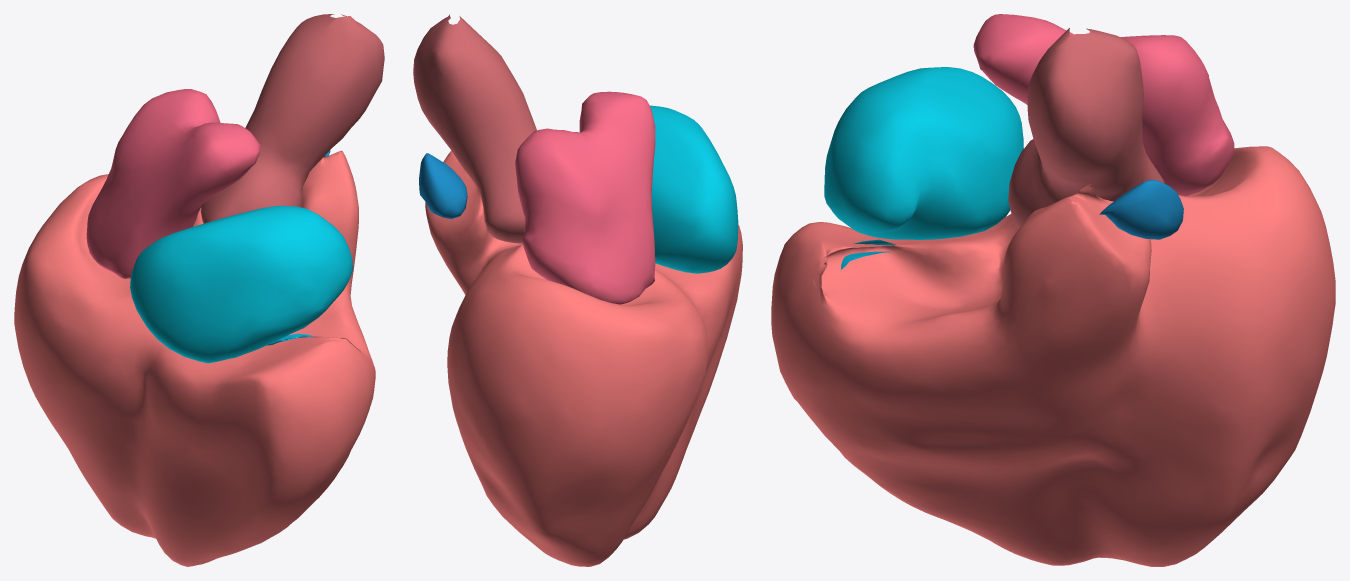
The model's file is frame_52.glb.
The picture shows the model from 3 angles, left to right: view 1: azimuth 30°, elevation 25°; view 2: azimuth 150°, elevation 25°; view 3: azimuth 270°, elevation 25°; orthographic projection. The views are drawn at different scales.
Visible parts, largest first — view 1: Renderer Node; view 2: Renderer Node; view 3: Renderer Node.
Boxes of the visible parts, left/top/right/bottom form: Renderer Node: left=14, top=14, right=384, bottom=566; Renderer Node: left=413, top=14, right=742, bottom=566; Renderer Node: left=771, top=14, right=1335, bottom=566.
Bounding box in the file's own units: 103 × 158 × 127.
